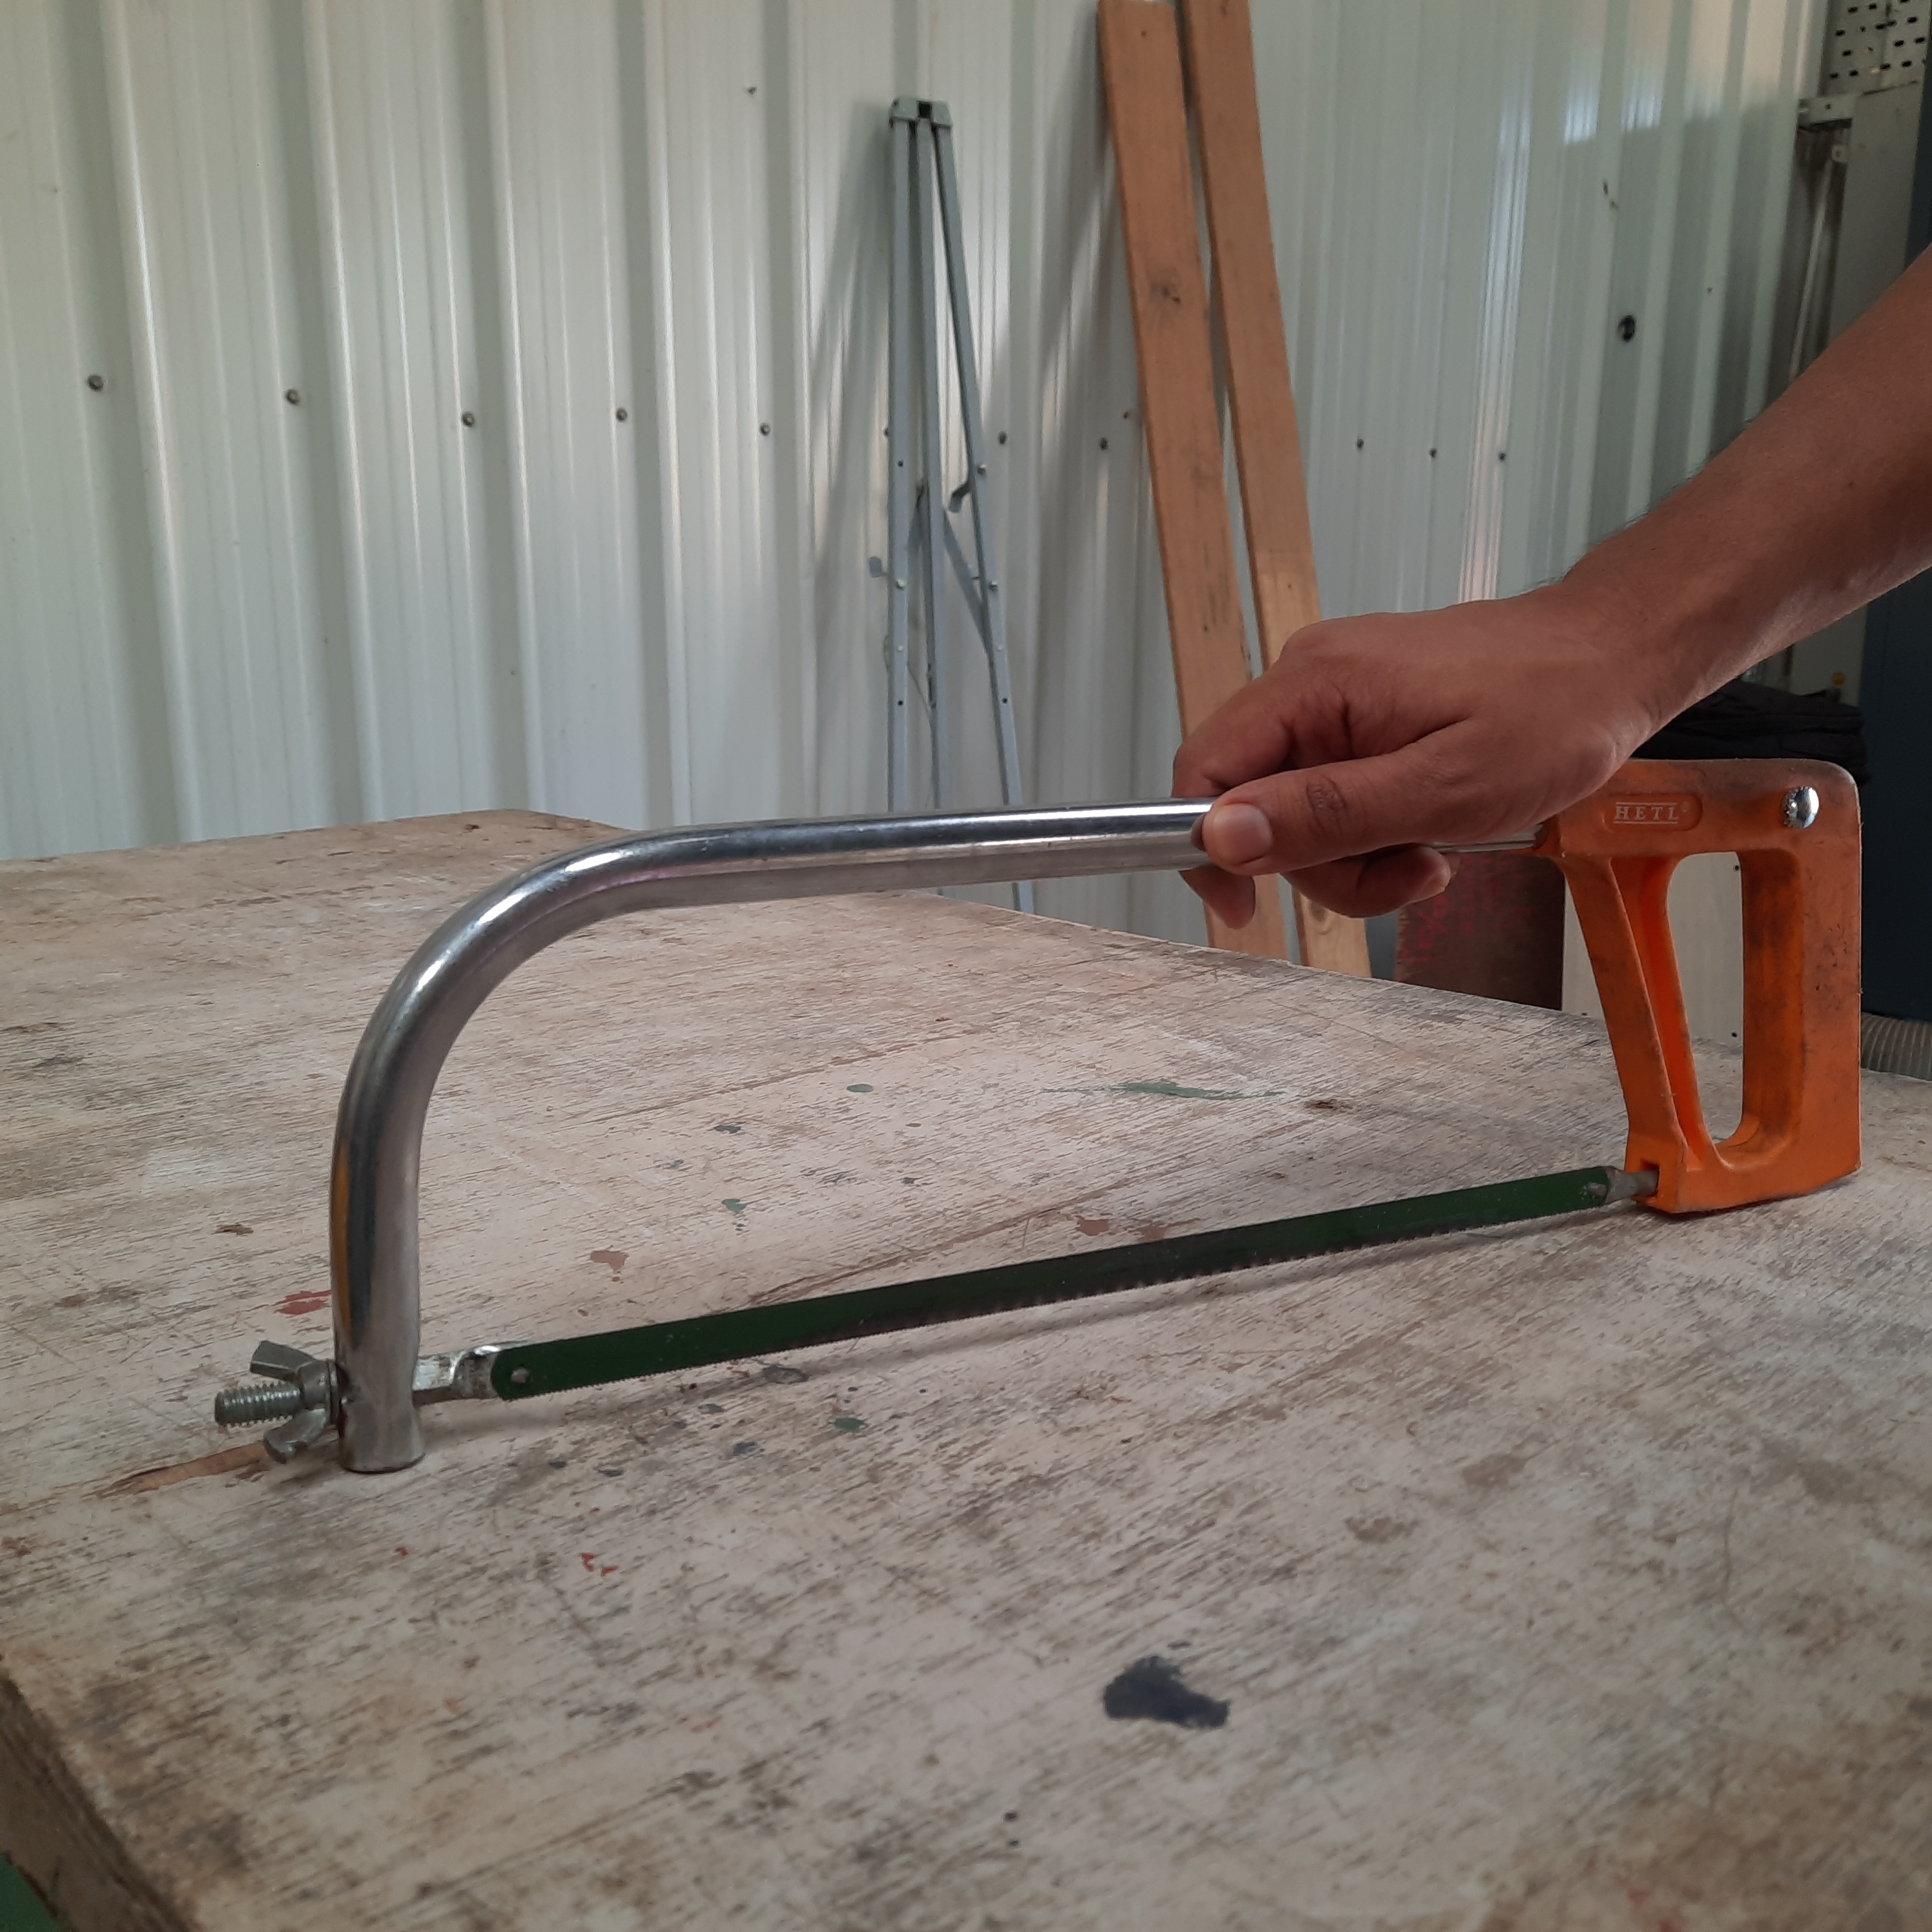Hexaframe: (209, 761, 1886, 1472)
